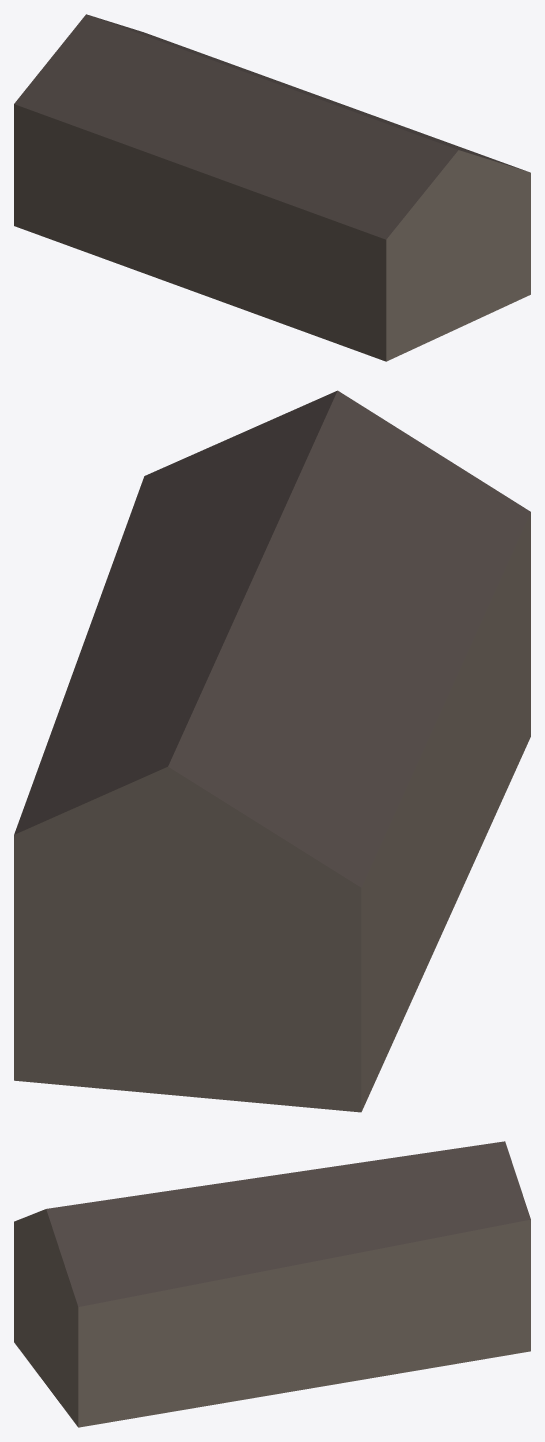
3 views of the same model, one above another, from view 1: azimuth 30°, elevation 25°; view 2: azimuth 150°, elevation 25°; view 3: azimuth 270°, elevation 25° (orthographic). The views are drawn at different scales.
Parts seen in each view (by area): view 1: HP-w1512914160; view 2: HP-w1512914160; view 3: HP-w1512914160.
Boxes of the visible parts, bbox=[...] form: HP-w1512914160: bbox=[14, 14, 530, 361]; HP-w1512914160: bbox=[14, 390, 530, 1112]; HP-w1512914160: bbox=[14, 1141, 530, 1427].
Size of the model in its own units: 16.34 by 8.76 by 23.33.
